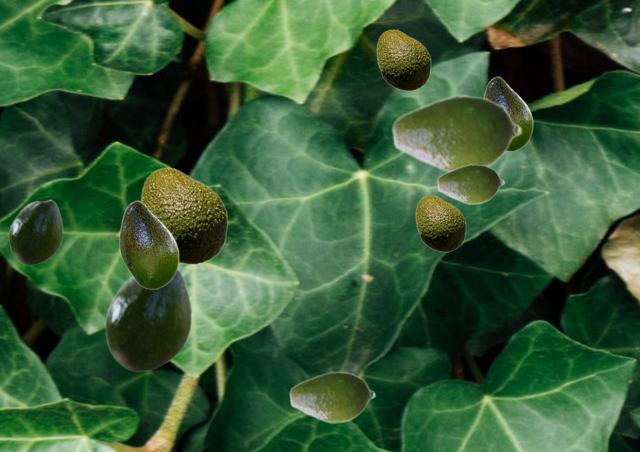avocado: (390, 93, 522, 173), (104, 269, 191, 371), (140, 167, 227, 264), (119, 200, 178, 288), (288, 370, 375, 423), (483, 76, 532, 150), (8, 199, 62, 264), (376, 29, 430, 90), (415, 195, 465, 251), (436, 163, 504, 204)
